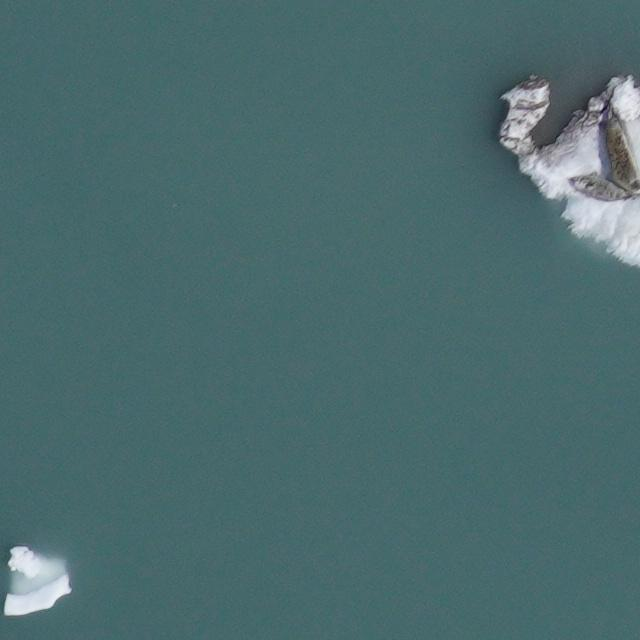seal: (565, 160, 635, 219)
